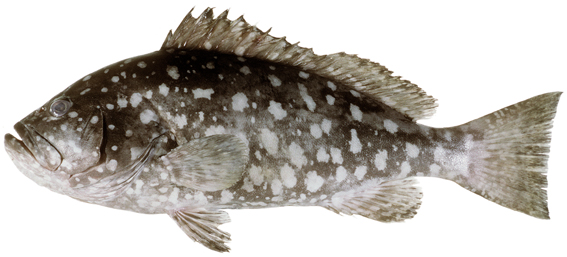fish: (4, 5, 567, 254)
